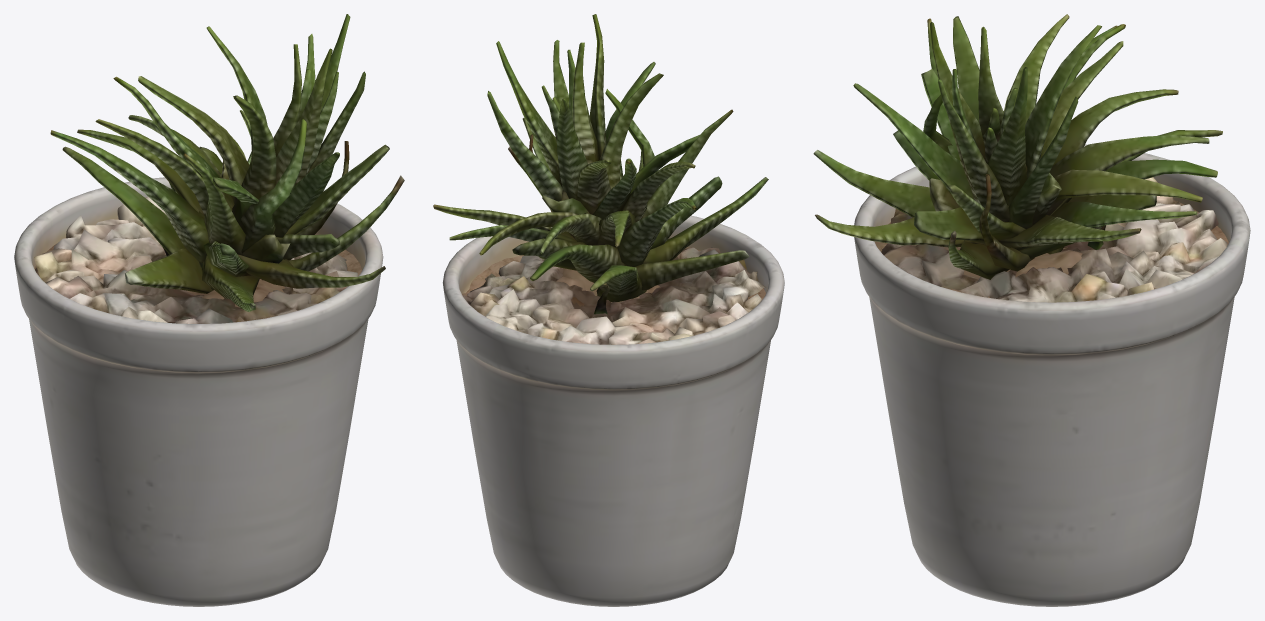
File: potted_plant_04.glb
The picture shows the model from 3 angles, left to right: view 1: azimuth 30°, elevation 25°; view 2: azimuth 150°, elevation 25°; view 3: azimuth 270°, elevation 25°; orthographic projection. The views are drawn at different scales.
Parts seen in each view (by area): view 1: potted_plant_04_ground; view 2: potted_plant_04_ground; view 3: potted_plant_04_ground.
Part boxes in pixels (x1,y1,x2,y2): potted_plant_04_ground: [14, 14, 404, 606]; potted_plant_04_ground: [433, 14, 784, 606]; potted_plant_04_ground: [813, 14, 1250, 606].
Bounding box in the file's own units: 0.1679 × 0.2675 × 0.1847.
1 material, 1 textured.
